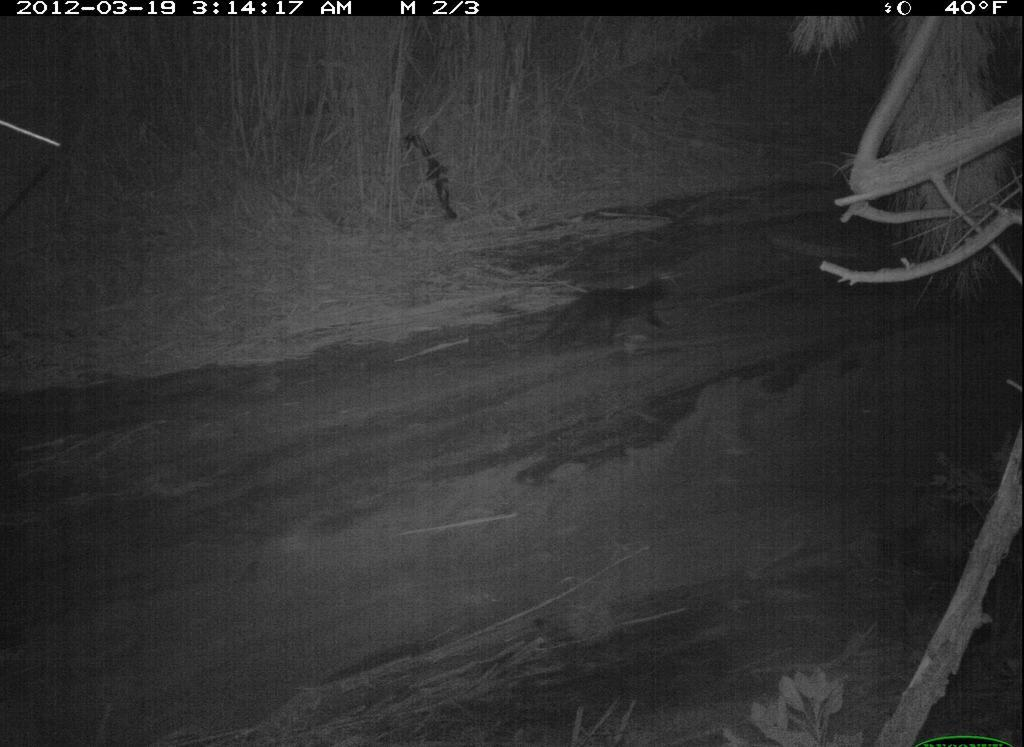cat: (529, 269, 681, 369)
